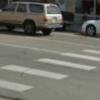cars: (1, 0, 64, 37)
